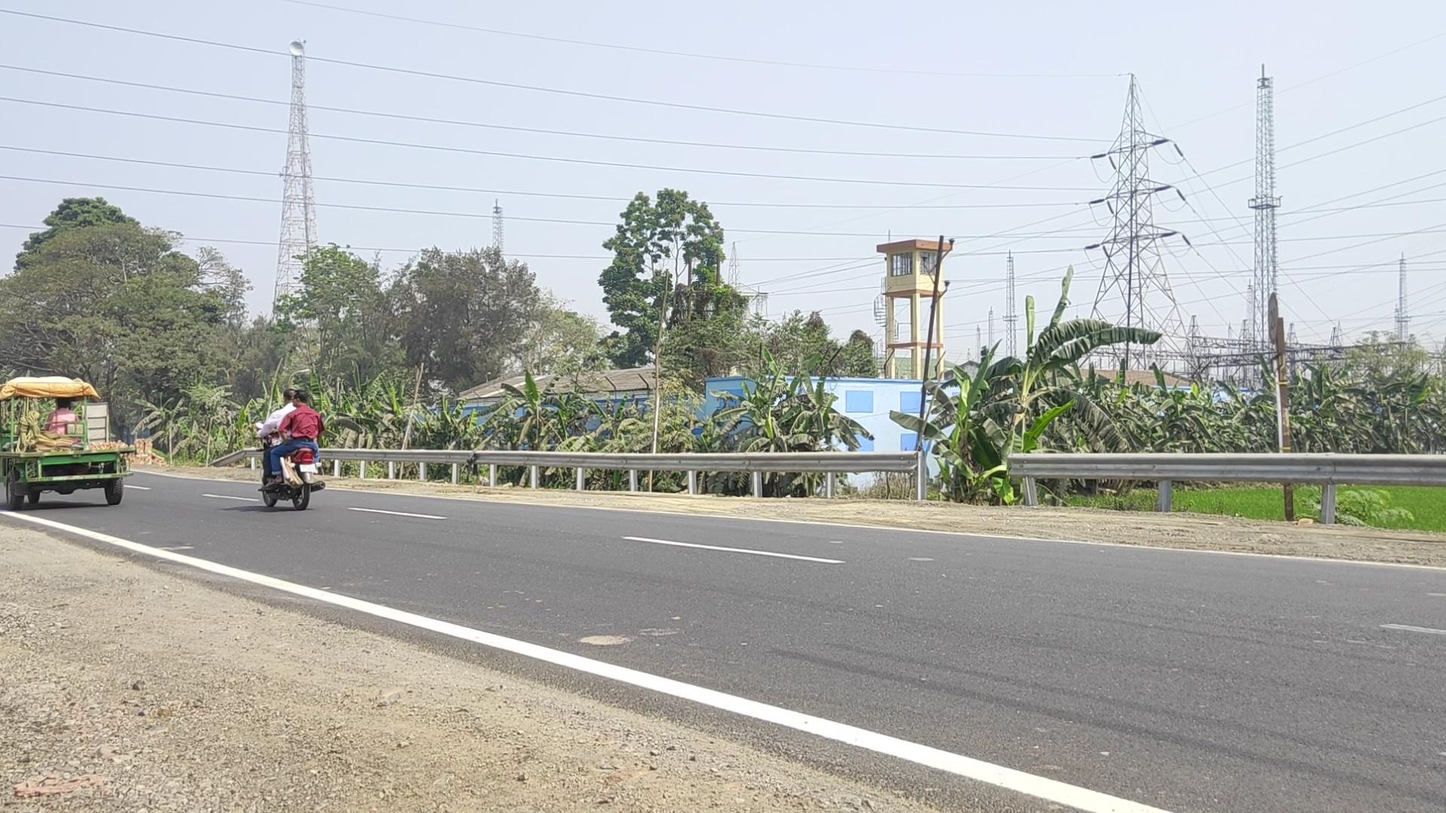bike: (252, 388, 326, 511)
